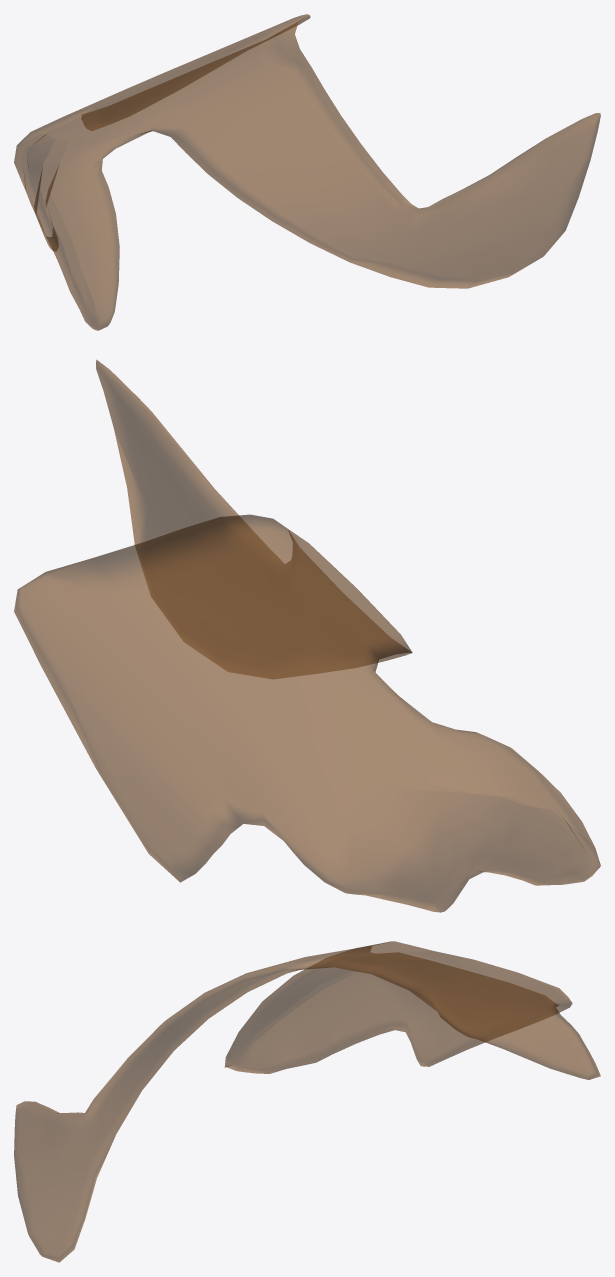
Rendered from gamejam_glassshards_BottleBodyB.fbx.
3 views of the same model, one above another, from view 1: azimuth 30°, elevation 25°; view 2: azimuth 150°, elevation 25°; view 3: azimuth 270°, elevation 25° (orthographic). The views are drawn at different scales.
Parts seen in each view (by area): view 1: BottleBodyB; view 2: BottleBodyB; view 3: BottleBodyB.
Boxes of the visible parts, box(x1,y1,x2,y2) form: BottleBodyB: box(14, 14, 600, 330); BottleBodyB: box(14, 360, 600, 912); BottleBodyB: box(14, 941, 600, 1262).
Size of the model in its own units: 1702 by 761 by 1572.
